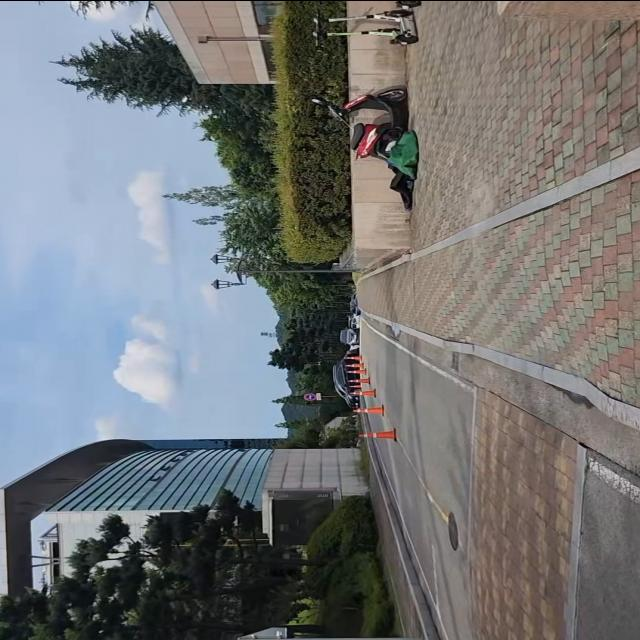obstacle: (306, 79, 418, 202), (306, 0, 425, 59), (223, 622, 420, 639), (345, 423, 399, 447)
road: (363, 316, 640, 640)
sidewalk: (357, 0, 640, 422)
